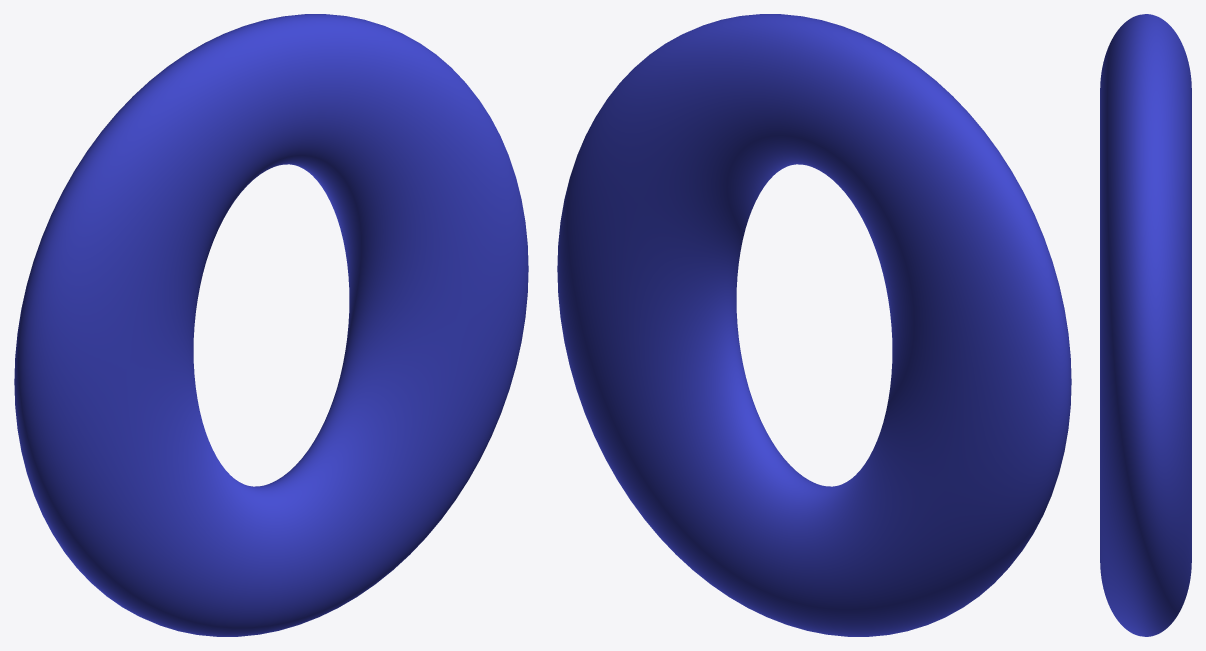
The model's file is bracelet.fbx.
The picture shows the model from 3 angles, left to right: view 1: azimuth 30°, elevation 25°; view 2: azimuth 150°, elevation 25°; view 3: azimuth 270°, elevation 25°; orthographic projection. The views are drawn at different scales.
Visible parts, largest first — view 1: root; view 2: root; view 3: root.
Boxes of the visible parts, x1,y1,x2,y2 form: root: (14, 14, 528, 636); root: (557, 14, 1071, 636); root: (1100, 14, 1191, 636).
Size of the model in its own units: 0.2242 by 0.256 by 0.0369.
